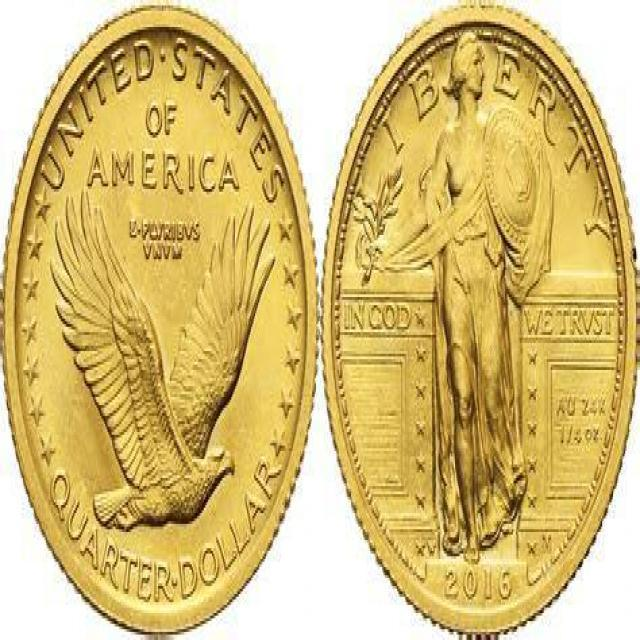Quarter: (3, 5, 322, 632)
